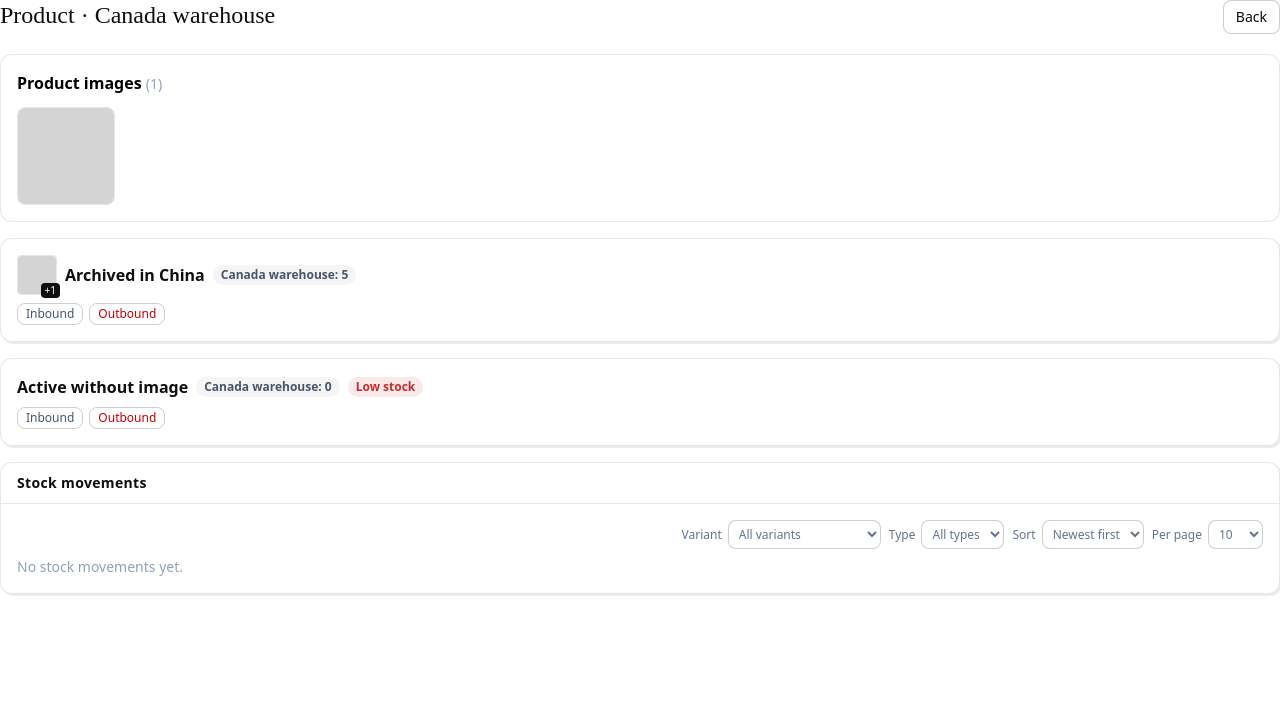
Test: warehouse product detail › keeps the same variant visible in Canada and previews its own multiple images
Click the button named "Preview images: Archived in China" at coordinates (37, 275), box [17,255,57,295]
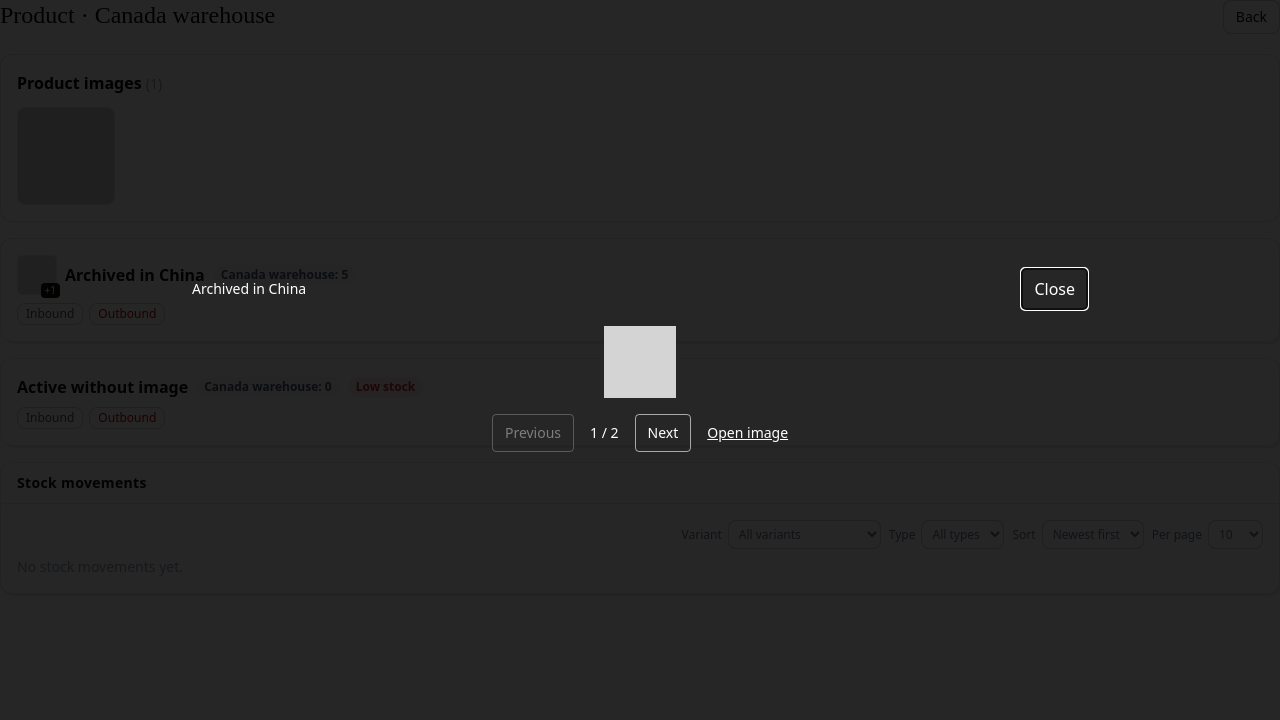
Now the text "1 / 2" is shown, box [590,423,618,443]
Click the button "Next" at coordinates (663, 433), box [635,414,691,452]
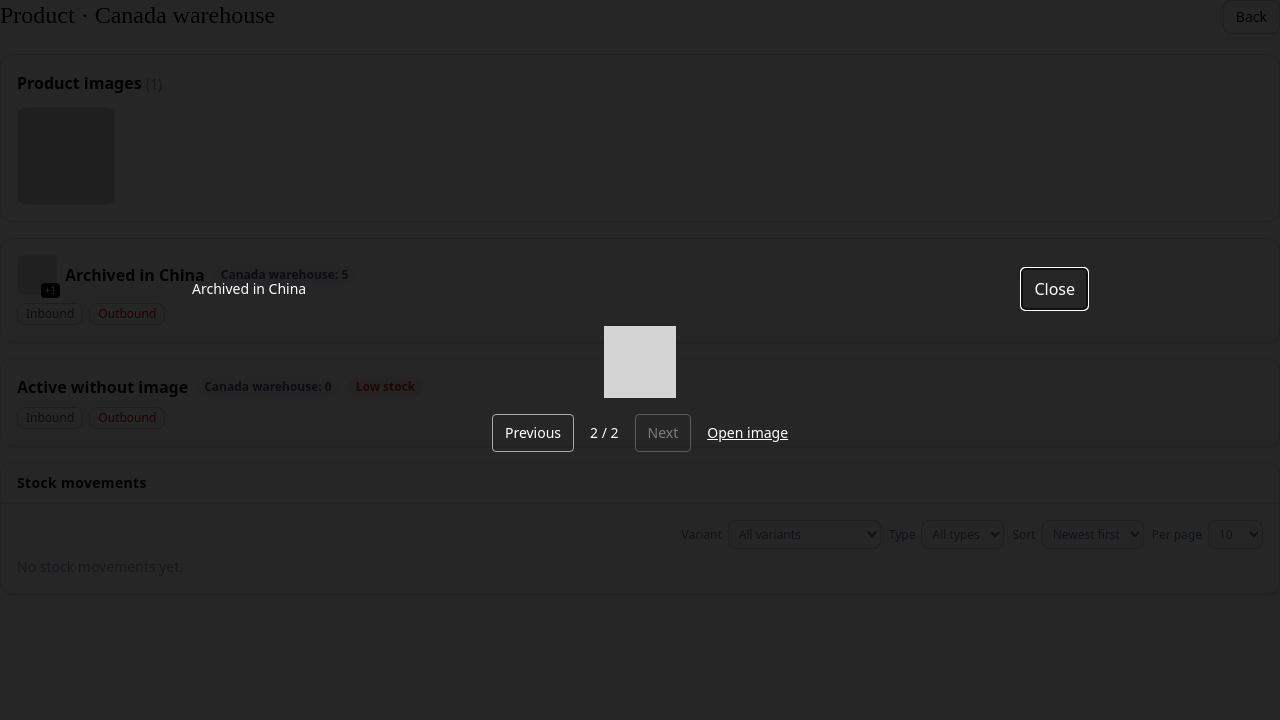
Now the text "2 / 2" is shown, box [590,423,618,443]
